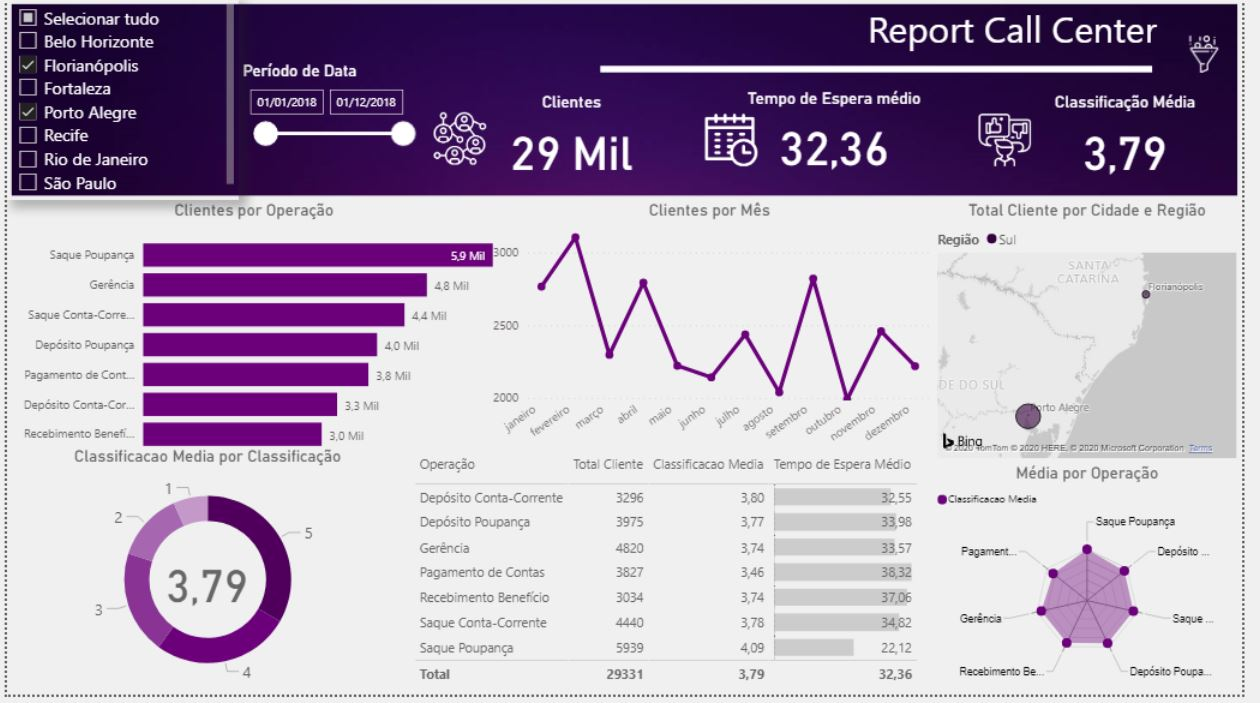

The dashboard page shown, as its layout file describes it:
{"tool":"powerbi","page":{"name":"Página 1","canvas":[1280,720],"ordinal":0},"visuals":[{"type":"image","box":[0,0,1280,208],"z":0},{"type":"card","title":"Clientes","fields":{"Values":["Cliente.Total Cliente"]},"box":[456.5,96,256,96],"z":1000},{"type":"card","title":"Tempo de Espera médio","fields":{"Values":["Avg(Cliente.Tempo de Espera)"]},"box":[729.7,91.1,256,96],"z":2000},{"type":"card","title":"Classificação Média","fields":{"Values":["Pesquisa.Classificacao Media"]},"box":[1039.3,97,240,96],"z":3000},{"type":"image","box":[978.3,113,112,64],"z":4000},{"type":"image","box":[710,113,80,64],"z":5000},{"type":"image","box":[420.7,112,96,64],"z":6000},{"type":"barChart","title":"Clientes por Operação","fields":{"Category":["Cliente.Operação"],"Y":["Cliente.Total Cliente"]},"box":[0,208,512,272],"z":7000},{"type":"lineChart","title":"Clientes por Mês","fields":{"Category":["Cliente.Data.Variation.Hierarquia de datas.Mês"],"Y":["Cliente.Total Cliente"]},"box":[496,208,464,272],"z":8000},{"type":"donutChart","fields":{"Category":["Pesquisa.Classificação"],"Y":["Pesquisa.Classificacao Media"]},"box":[0,464,416,256],"z":9000},{"type":"card","fields":{"Values":["Pesquisa.Classificacao Media"]},"box":[151.1,570.4,112.9,63.5],"z":10000},{"type":"tableEx","fields":{"Values":["Cliente.Operação","Cliente.Total Cliente","Pesquisa.Classificacao Media","Avg(Cliente.Tempo de Espera)"]},"box":[416,464,544,256],"z":11000},{"type":"map","fields":{"Category":["Cliente.Cidade"],"Size":["Cliente.Total Cliente"],"Series":["Cliente.Região"]},"box":[960,208,320,272],"z":12000},{"type":"RadarChart1446119667547","title":"Média por Operação","fields":{"Category":["Cliente.Operação"],"Y":["Pesquisa.Classificacao Media"]},"box":[960,480,320,240],"z":13000},{"type":"textbox","box":[605,0,592,64],"z":14000},{"type":"basicShape","box":[605,48,592,48],"z":15000},{"type":"slicer","title":"Período de Data","fields":{"Values":["Cliente.Data"]},"box":[240,64,192,96],"z":16000},{"type":"slicer","fields":{"Values":["Cliente.Cidade"]},"box":[0,0,240,208],"z":17000},{"type":"image","box":[1200,32,80,48],"z":18000}]}

Visuals, with their boxes in screenshot pixels (x1, y1, x2, y2), scaled from the page's 1280x720 canvas onto the 1260x703 screenshot:
image: [x1=0, y1=0, x2=1259, y2=203]
"Clientes" card: [x1=449, y1=94, x2=701, y2=187]
"Tempo de Espera médio" card: [x1=718, y1=89, x2=970, y2=183]
"Classificação Média" card: [x1=1023, y1=95, x2=1259, y2=188]
image: [x1=963, y1=110, x2=1073, y2=173]
image: [x1=699, y1=110, x2=778, y2=173]
image: [x1=414, y1=109, x2=509, y2=172]
"Clientes por Operação" barChart: [x1=0, y1=203, x2=504, y2=469]
"Clientes por Mês" lineChart: [x1=488, y1=203, x2=945, y2=469]
donutChart - Pesquisa.Classificação x Pesquisa.Classificacao Media: [x1=0, y1=453, x2=410, y2=702]
card - Pesquisa.Classificacao Media: [x1=149, y1=557, x2=260, y2=619]
tableEx - Cliente.Operação x Cliente.Total Cliente: [x1=410, y1=453, x2=945, y2=702]
map - Cliente.Cidade x Cliente.Total Cliente: [x1=945, y1=203, x2=1259, y2=469]
"Média por Operação" RadarChart1446119667547: [x1=945, y1=469, x2=1259, y2=702]
textbox: [x1=596, y1=0, x2=1178, y2=62]
basicShape: [x1=596, y1=47, x2=1178, y2=94]
"Período de Data" slicer: [x1=236, y1=62, x2=425, y2=156]
slicer - Cliente.Cidade: [x1=0, y1=0, x2=236, y2=203]
image: [x1=1181, y1=31, x2=1259, y2=78]
